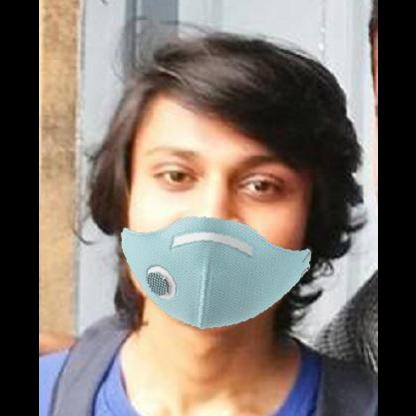FFP Mask: (109, 88, 317, 334)
